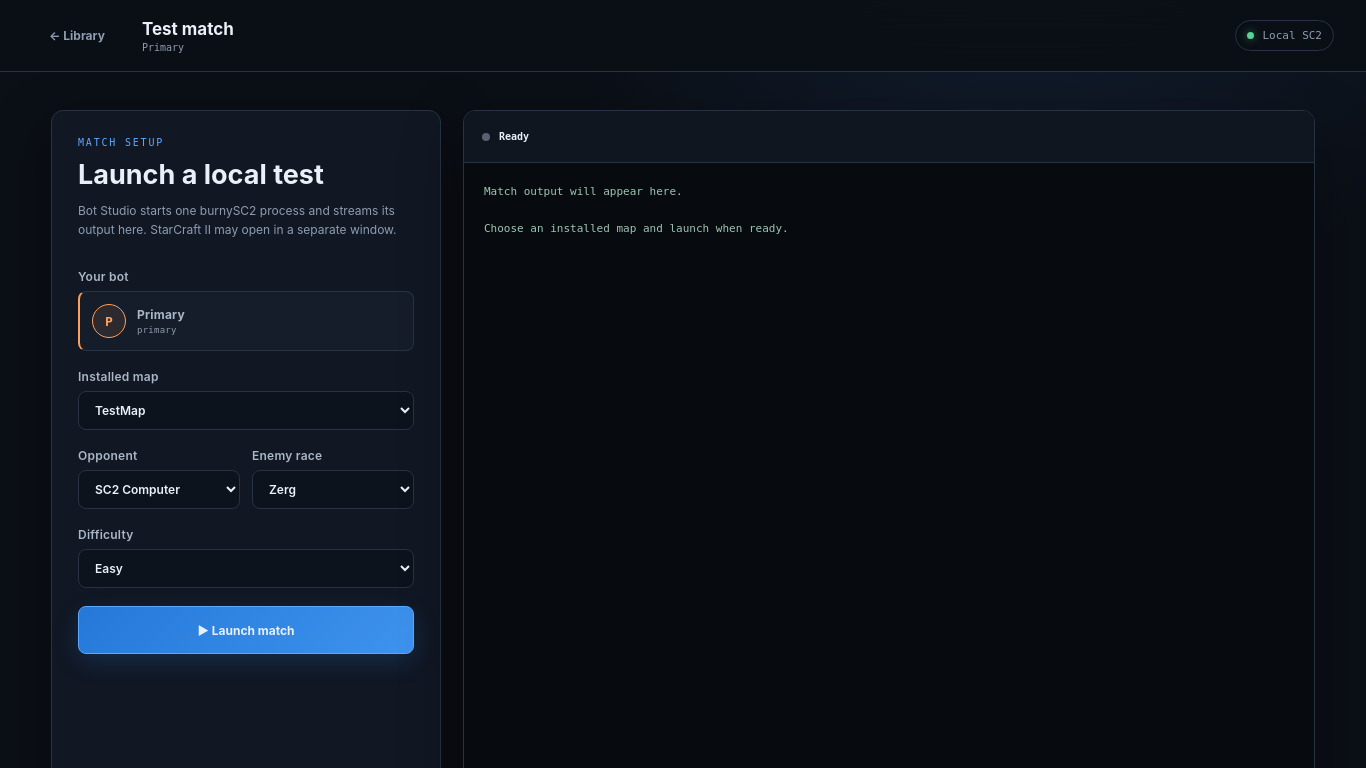
it: RunConsole › polls repeatedly after the event stream fails until the match is terminal
The width and height of the screenshot is (1366, 768).
Click the button "▶ Launch match": x=246, y=630 [78, 606, 414, 654]
Wait 6000 ms
(page scrolled)
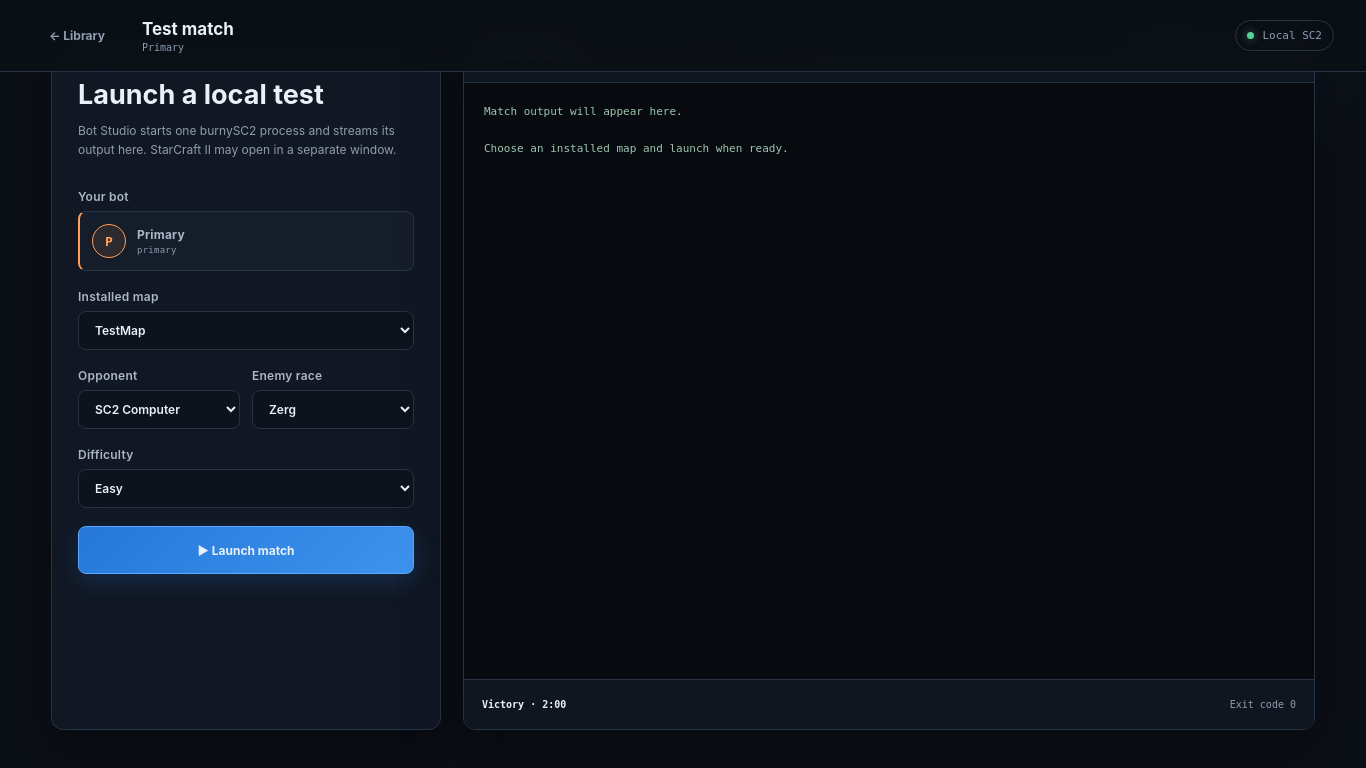
Result: the text "Victory · 2:00" is shown at [482, 699, 566, 710]
